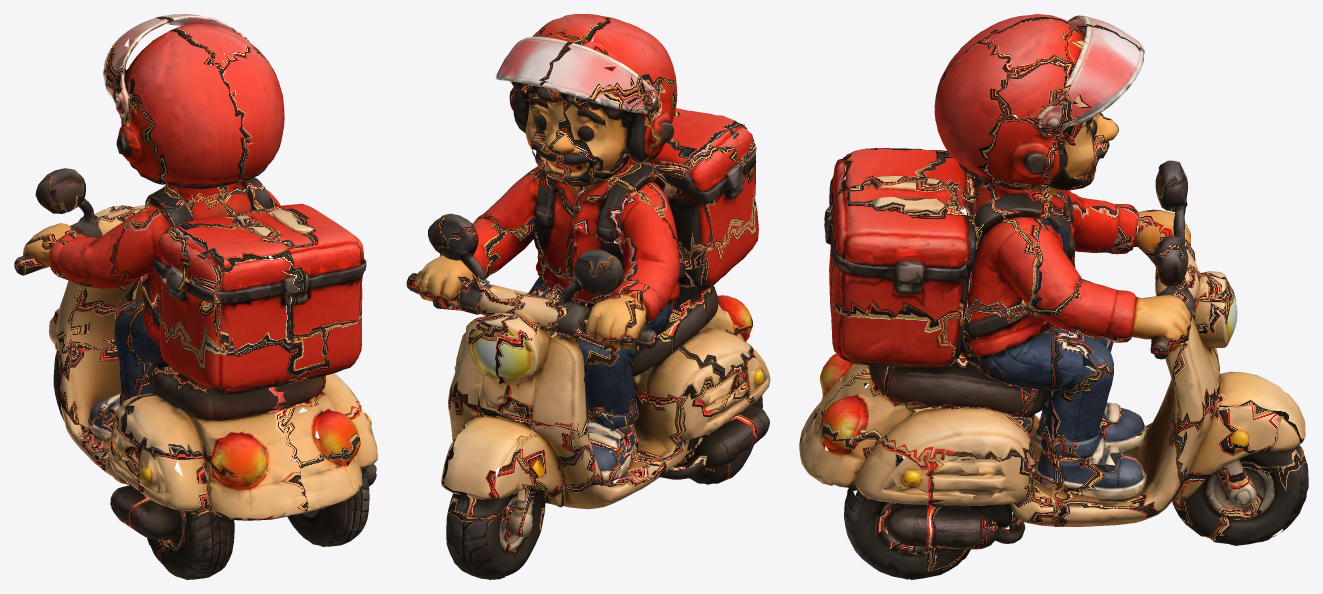
The model's file is rider.glb.
3 views of the same model, side by side, from view 1: azimuth 30°, elevation 25°; view 2: azimuth 150°, elevation 25°; view 3: azimuth 270°, elevation 25° (orthographic). The views are drawn at different scales.
Parts seen in each view (by area): view 1: tripo_node_09e0ae01-0835-46f0-b9be-af94da549712; view 2: tripo_node_09e0ae01-0835-46f0-b9be-af94da549712; view 3: tripo_node_09e0ae01-0835-46f0-b9be-af94da549712.
Boxes of the visible parts, bbox=[...] form: tripo_node_09e0ae01-0835-46f0-b9be-af94da549712: bbox=[14, 14, 377, 579]; tripo_node_09e0ae01-0835-46f0-b9be-af94da549712: bbox=[406, 14, 770, 579]; tripo_node_09e0ae01-0835-46f0-b9be-af94da549712: bbox=[799, 14, 1308, 579].
Size of the model in its own units: 0.5285 by 0.9994 by 0.8918.
Materials: 1 (1 with a texture image).
